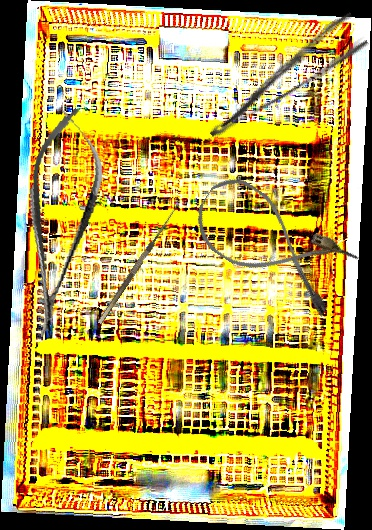Cannula: (183, 168, 361, 320)
Dressing Forceps: (193, 11, 371, 141)
Hook Surgical: (90, 200, 181, 325)
Micro Scissor: (6, 103, 113, 343)
